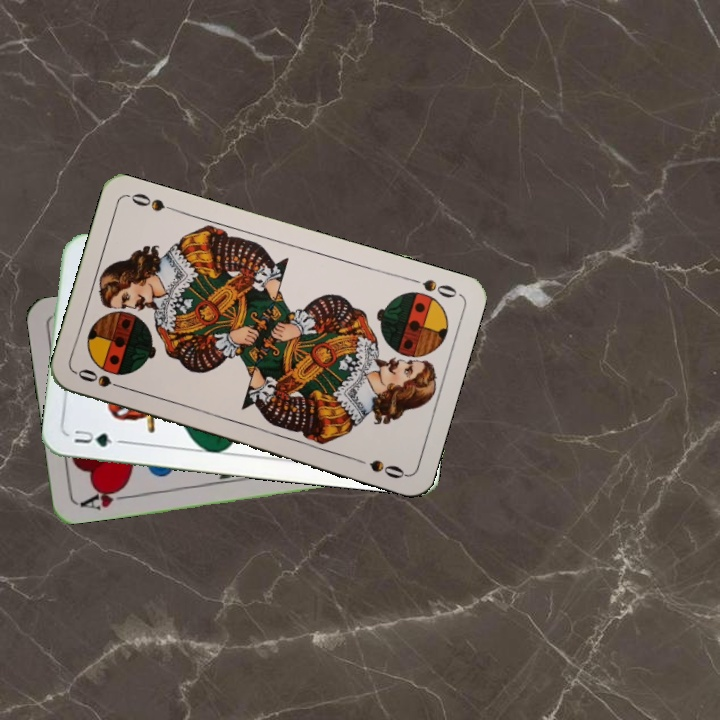GU: (70, 425, 125, 450)
HA: (74, 482, 133, 513)
SO: (73, 364, 131, 393), (404, 273, 460, 301)
